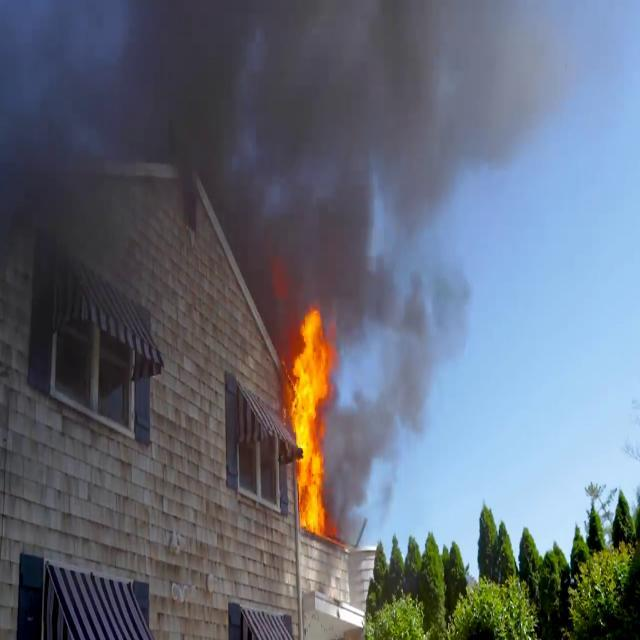Fire: (291, 301, 333, 528)
Smoke: (0, 0, 543, 349), (332, 352, 432, 511)
